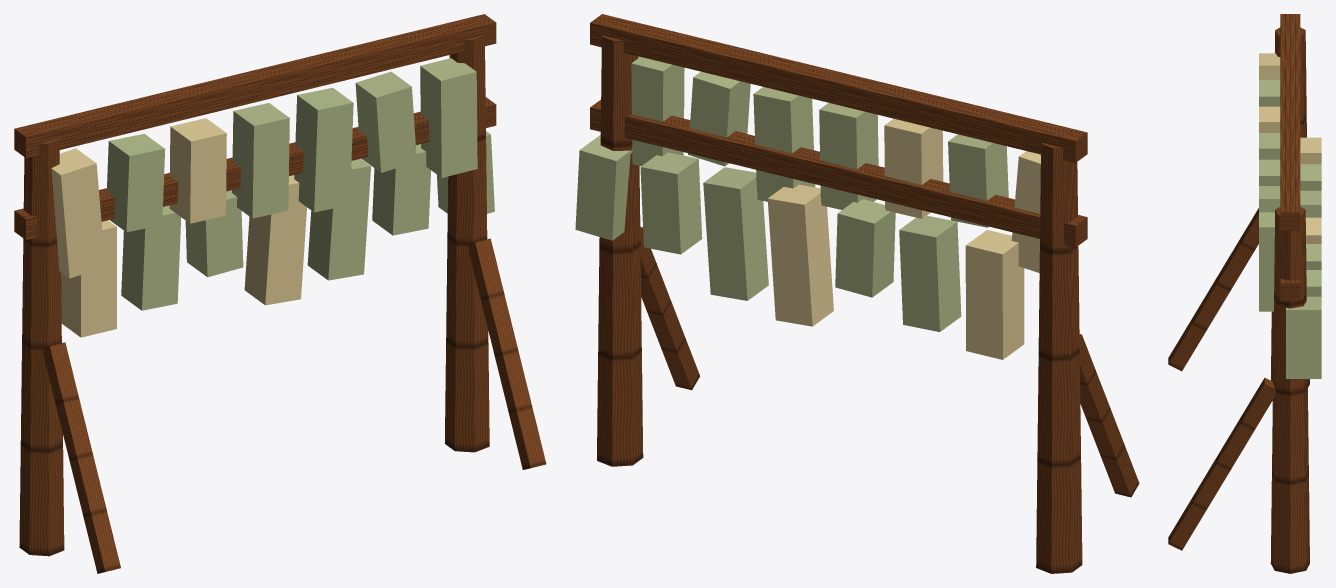
Rendered from andean-terraces-and-stone-village-herb-drying-rack-098beed8__38267.glb.
3 views of the same model, side by side, from view 1: azimuth 30°, elevation 25°; view 2: azimuth 150°, elevation 25°; view 3: azimuth 270°, elevation 25° (orthographic). The views are drawn at different scales.
Parts seen in each view (by area): view 1: herb-drying-rack-timber, herb-drying-rack-grass, herb-drying-rack-thatch; view 2: herb-drying-rack-timber, herb-drying-rack-grass, herb-drying-rack-thatch; view 3: herb-drying-rack-timber, herb-drying-rack-grass, herb-drying-rack-thatch.
Part boxes in pixels (x1,y1,x2,y2): herb-drying-rack-timber: (14,14,546,573); herb-drying-rack-grass: (107,58,494,310); herb-drying-rack-thatch: (51,118,306,337); herb-drying-rack-timber: (590,14,1139,573); herb-drying-rack-grass: (575,56,1008,331); herb-drying-rack-thatch: (767,118,1040,359); herb-drying-rack-timber: (1168,14,1309,573); herb-drying-rack-grass: (1259,80,1321,378); herb-drying-rack-thatch: (1259,53,1321,243).
Size of the model in its own units: 2.11 by 1.79 by 0.6865.
Materials: 3 (1 with a texture image).
